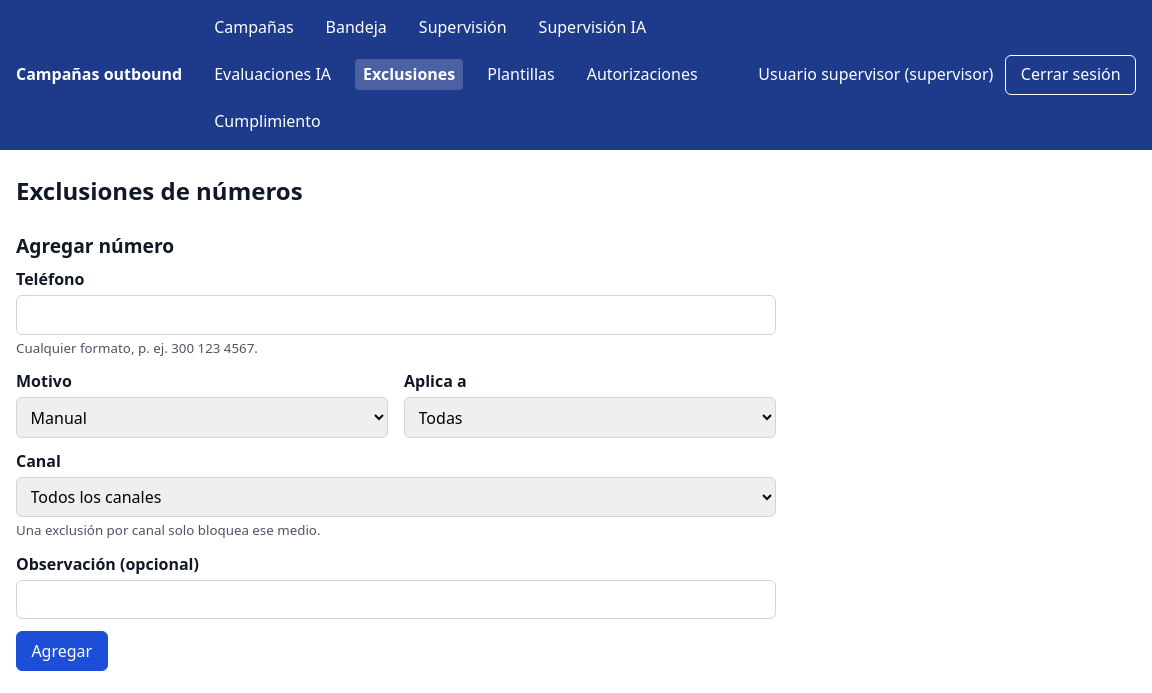
Test: Exclusiones › alta individual envía el teléfono recortado y limpia el formulario
The width and height of the screenshot is (1152, 693).
Type "  300 123 4567 " into the field labelled "Teléfono" at (396, 315), box [16, 295, 776, 335]
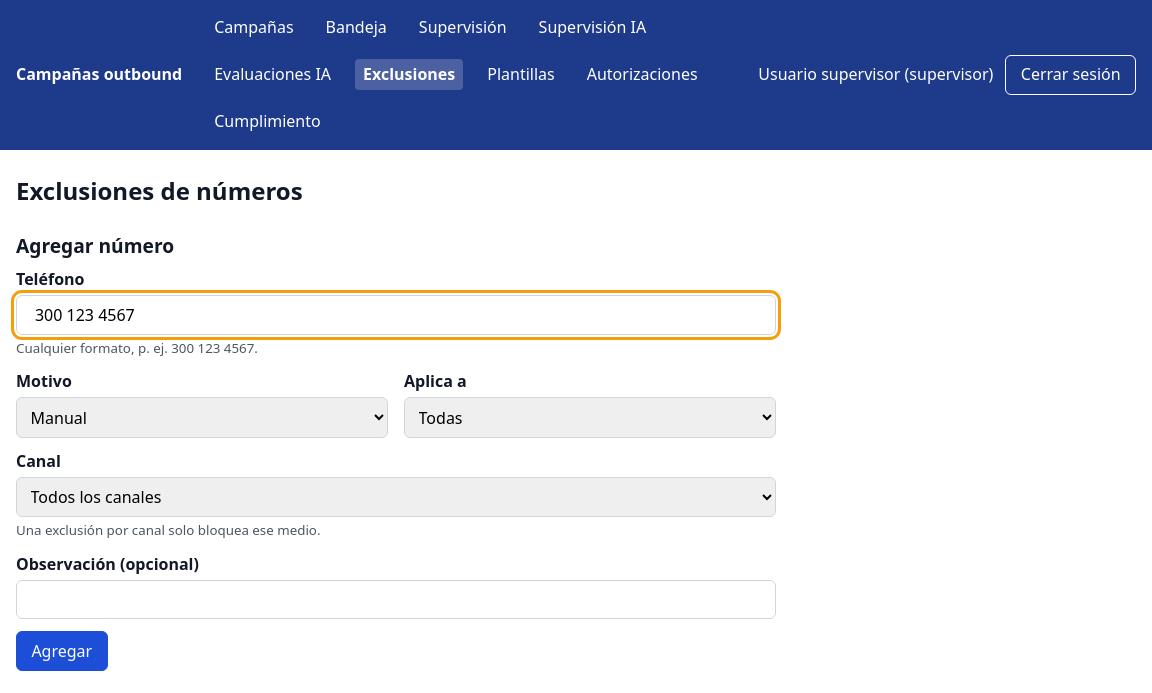
Type "pidió no ser llamado" into the field labelled "Observación (opcional)" at (396, 600), box [16, 580, 776, 620]
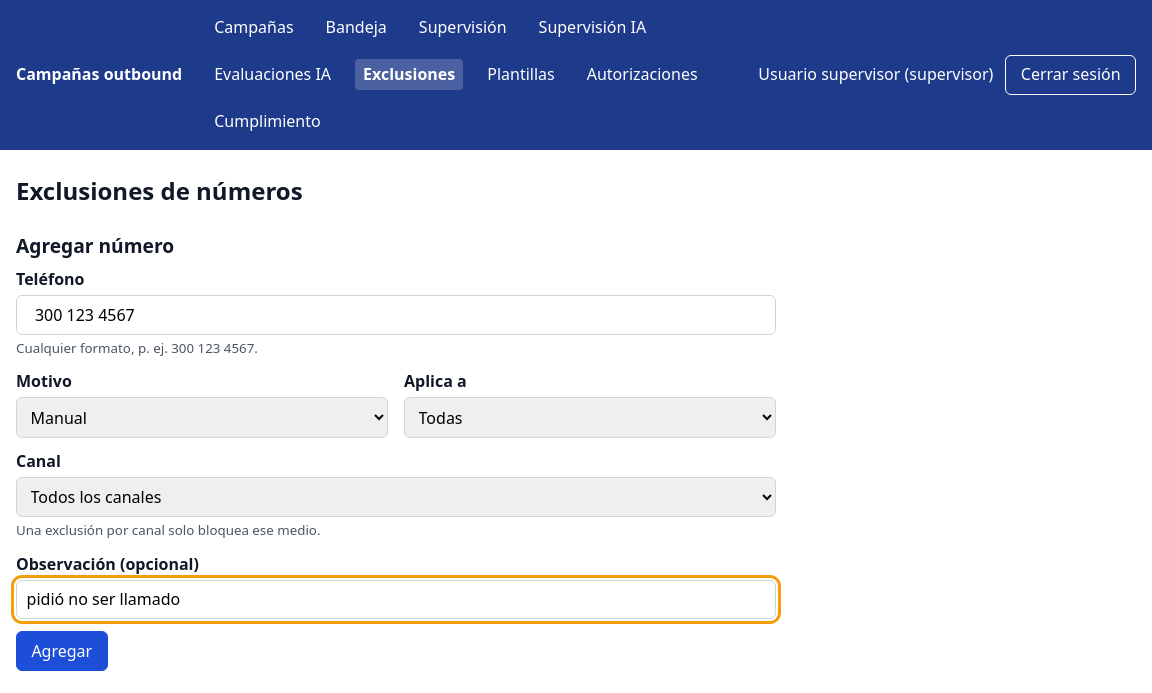
Click the button "Agregar" at (62, 651), box [16, 632, 108, 671]
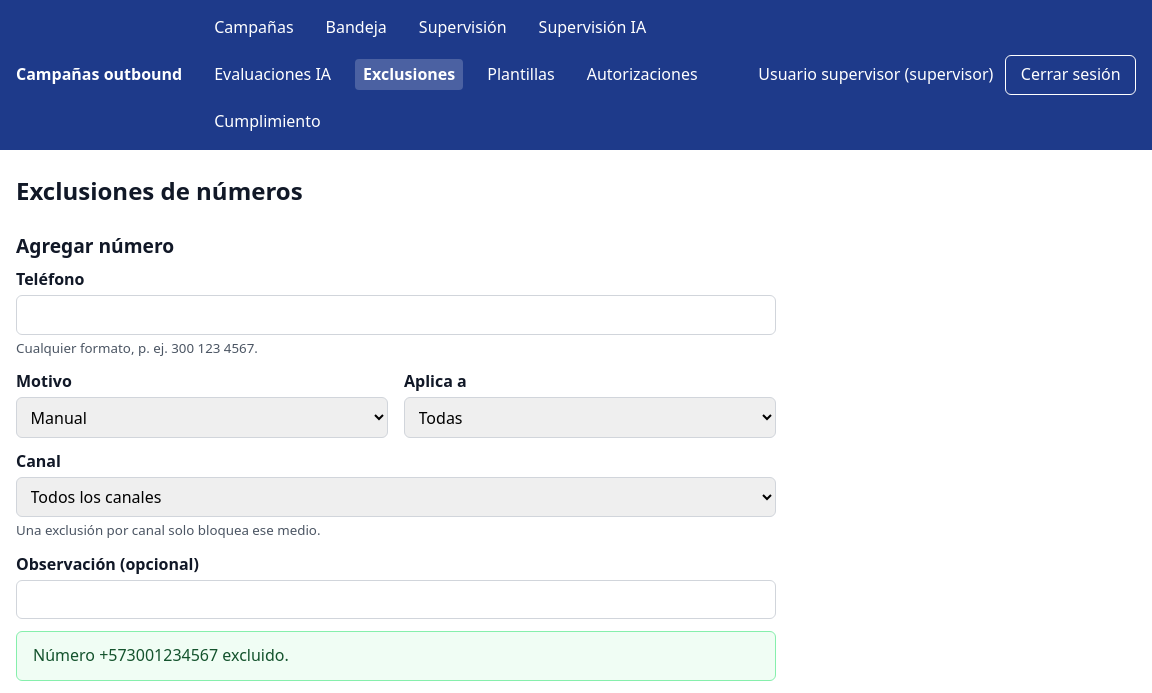
Expected: the text "Número +573001234567 excluido." is shown, [16, 632, 776, 681]
Expected: the field labelled "Teléfono" is empty, [16, 295, 776, 335]
